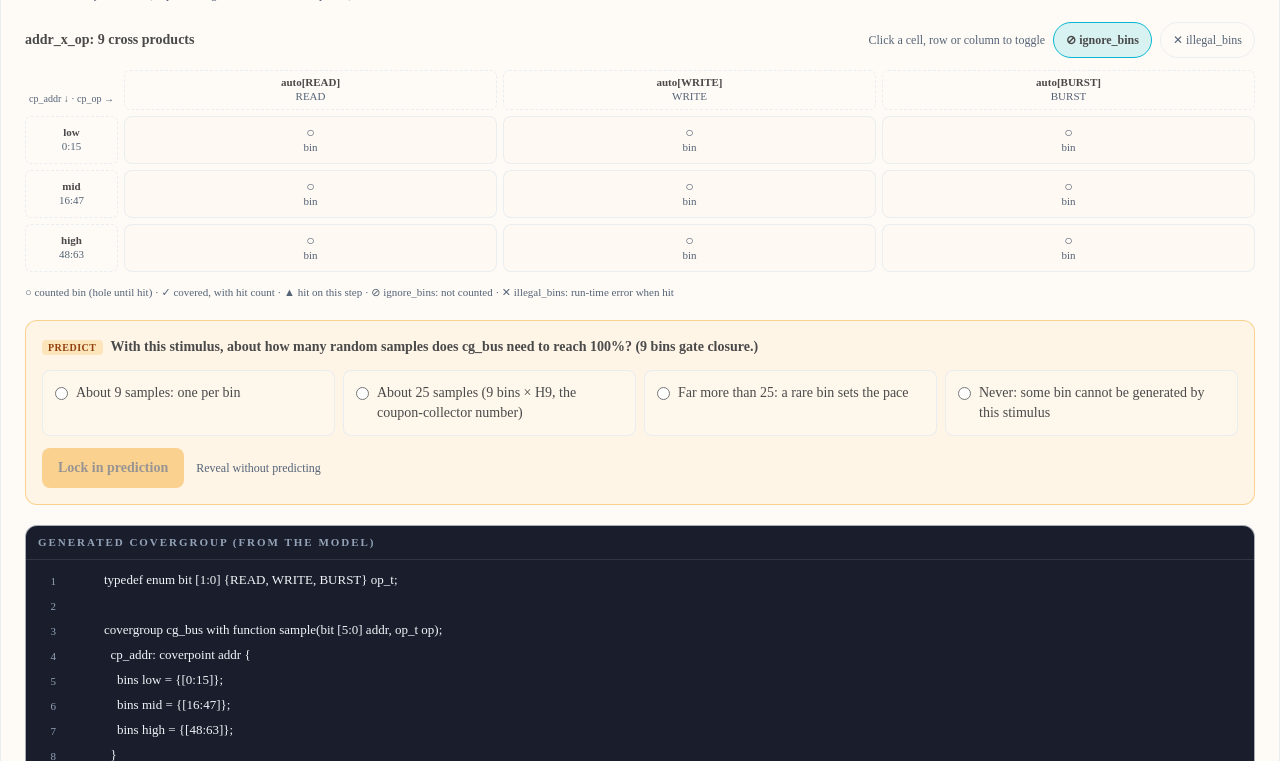
it: CoverageCrossExplorerVisualizer › a constraint hole never closes, and the run explains why
(page scrolled)
Click the radio button labelled "Never: some bin cannot be generated by this stimulus". click: (964, 394)
box: [958,387,971,400]
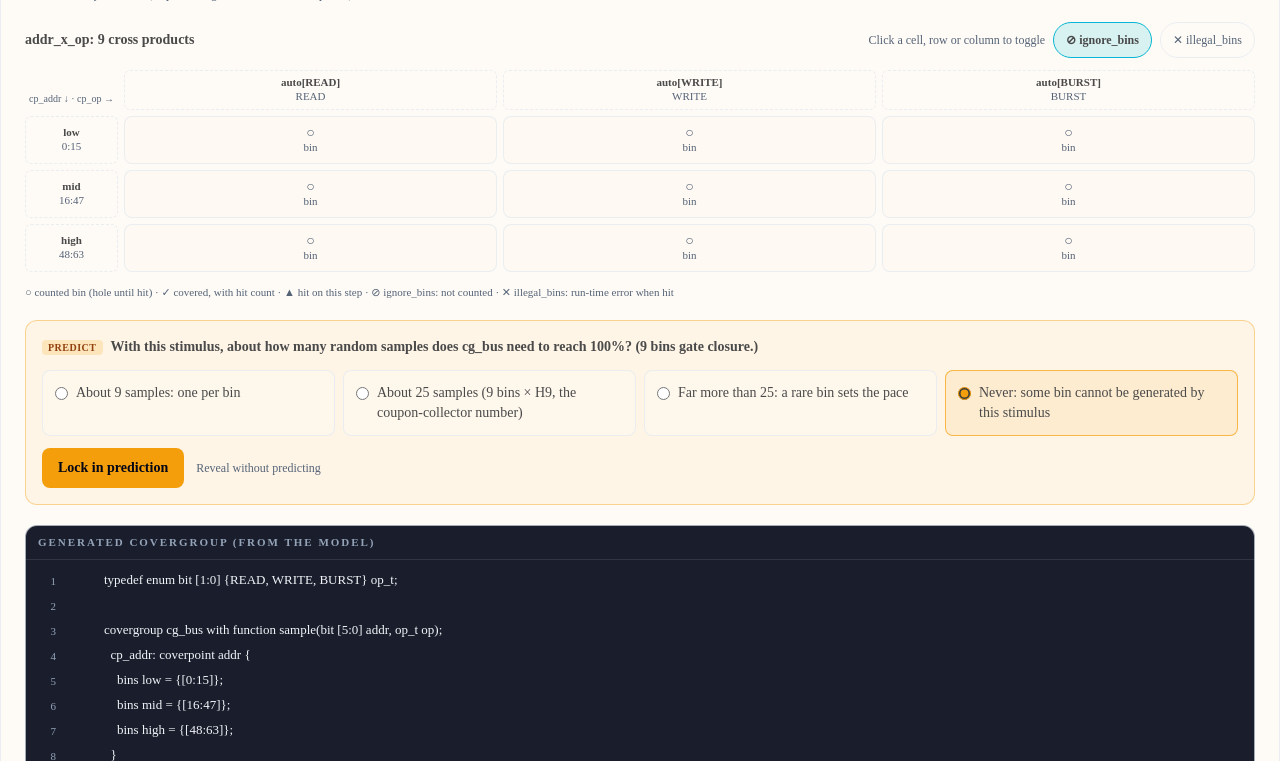
Click the button "Lock in prediction". click: (113, 468)
box: [42,448,184,488]
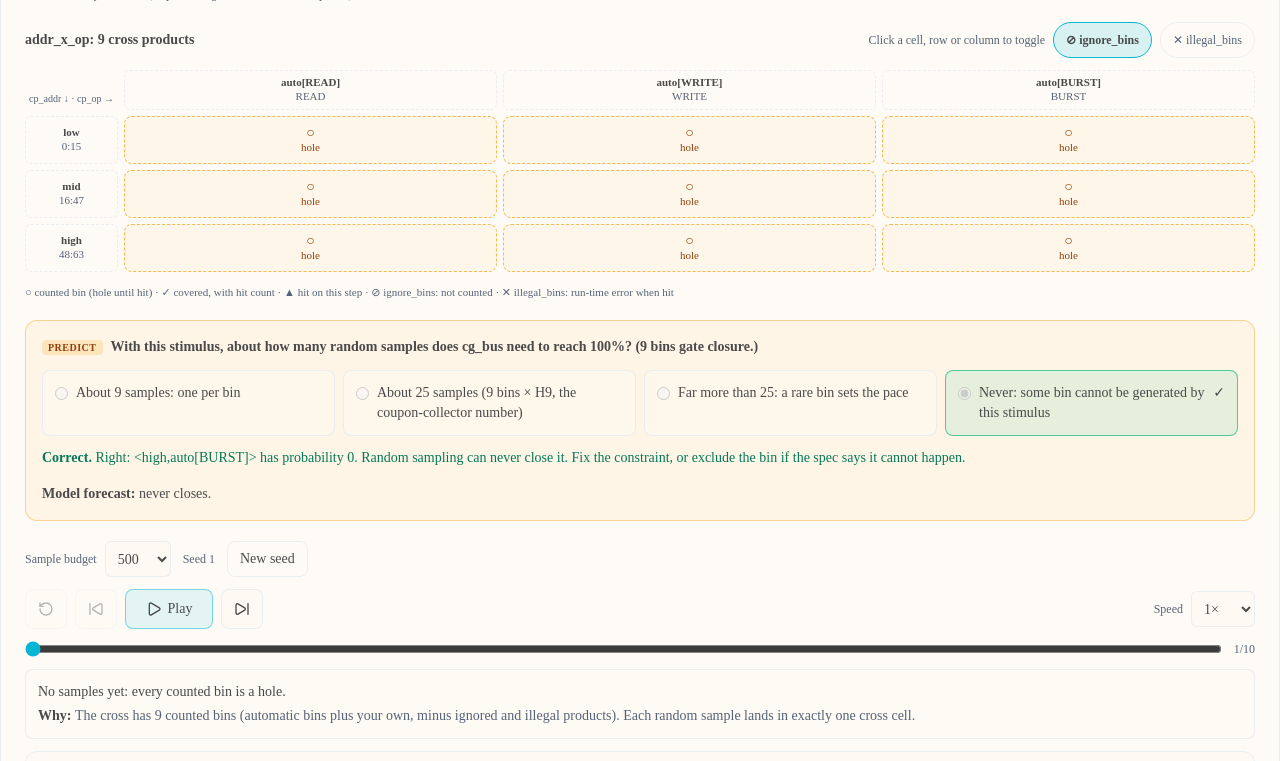
Expected: the text "Correct." is shown, [42,450,95,465]
Set the slider named "coverage event scrubber" to "9". click: (1214, 649)
box: [25,645,1222,653]
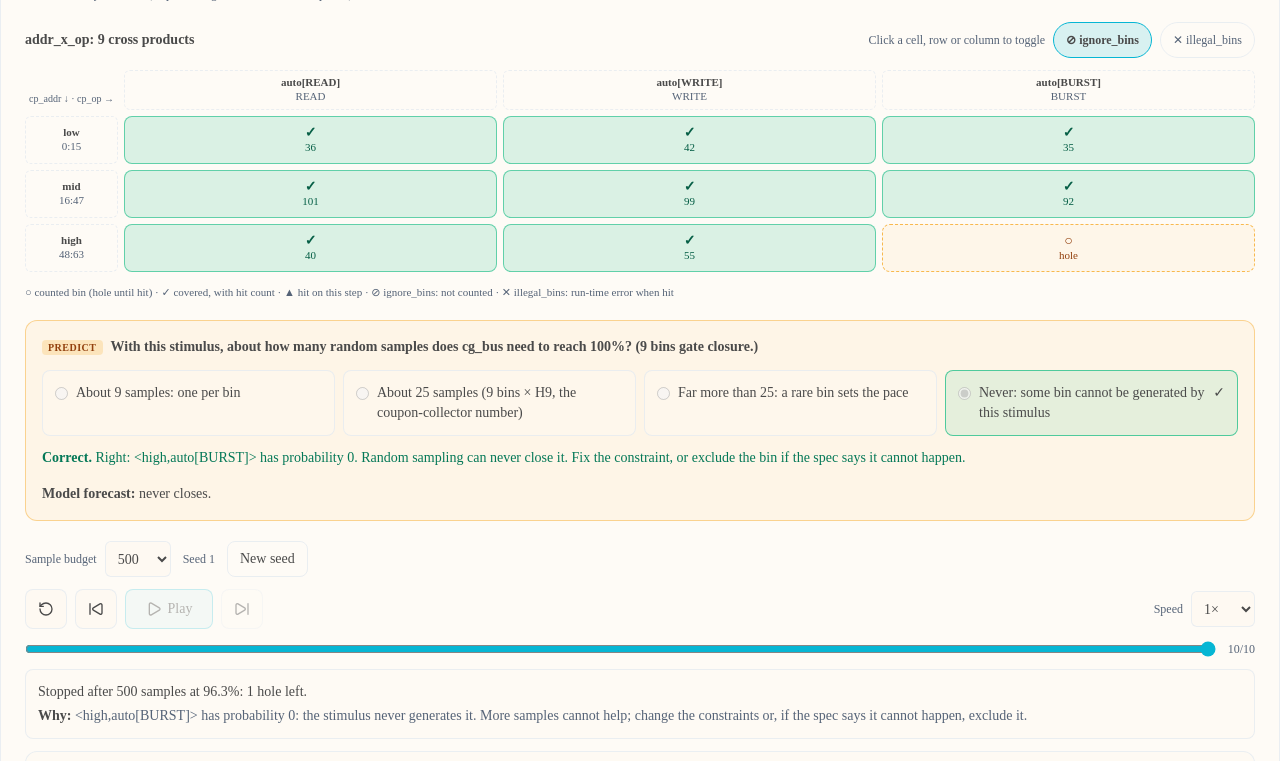
Expected: the text "probability 0" is shown, [95,450,965,465]
Expected: the text "Stopped after 500 samples at 96.3%: 1 hole left." is shown, [38,684,307,699]
